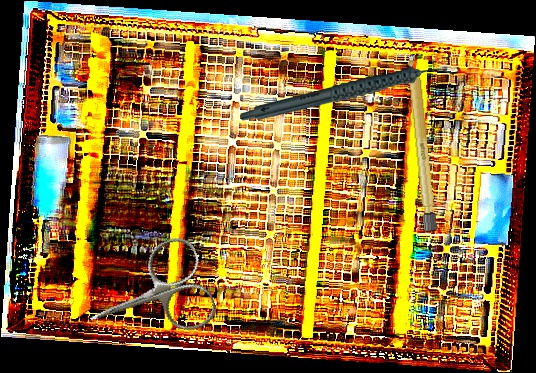Handpiece: (240, 66, 454, 121)
Iris Scissors: (74, 232, 221, 362)
Scalpel Handle: (405, 50, 439, 234)
